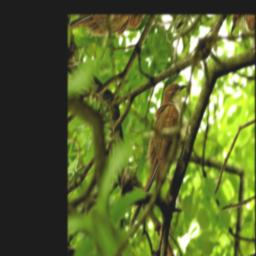Cuckoo: (98, 69, 211, 234)
